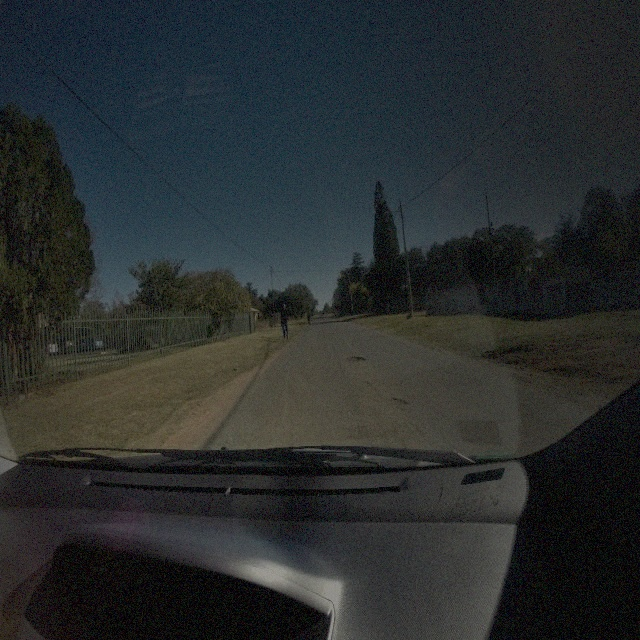pothole: (388, 394, 404, 408), (345, 353, 365, 362)
